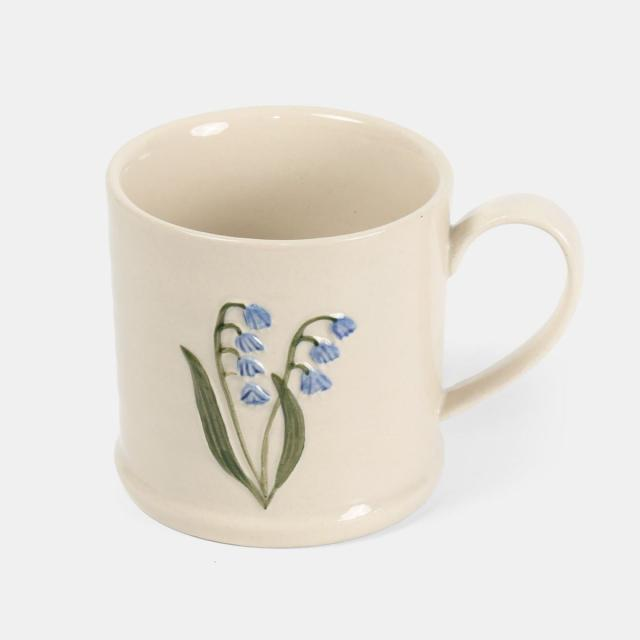glass cup: (104, 103, 586, 549)
